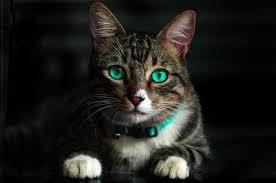animals: (49, 1, 216, 181)
